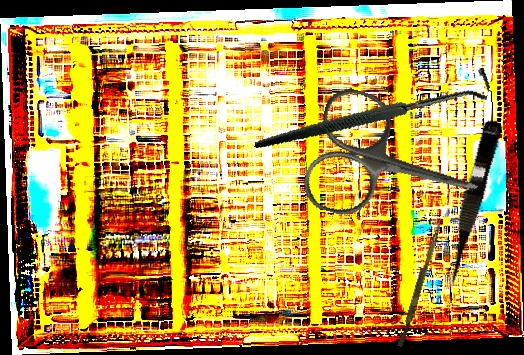Hook Surgical: (254, 19, 494, 199)
Iris Scissors: (298, 83, 494, 249)
Micro Scissor: (436, 116, 505, 294)
Pusher: (397, 216, 443, 349)
